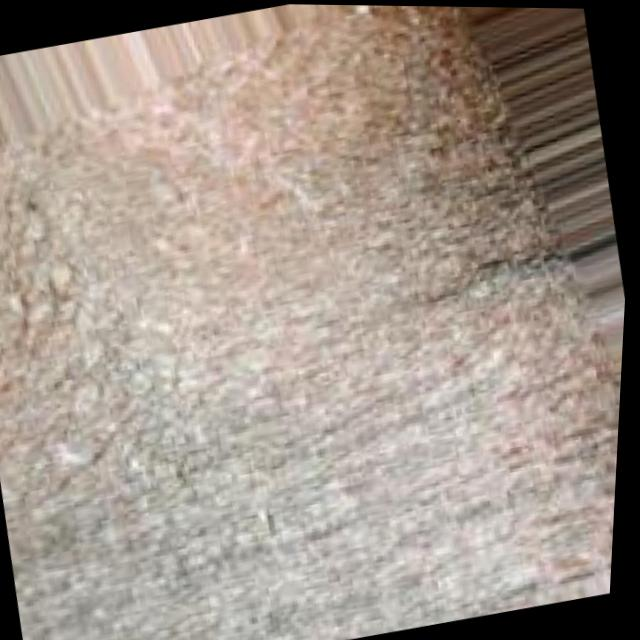Eczema: (2, 84, 590, 587)
